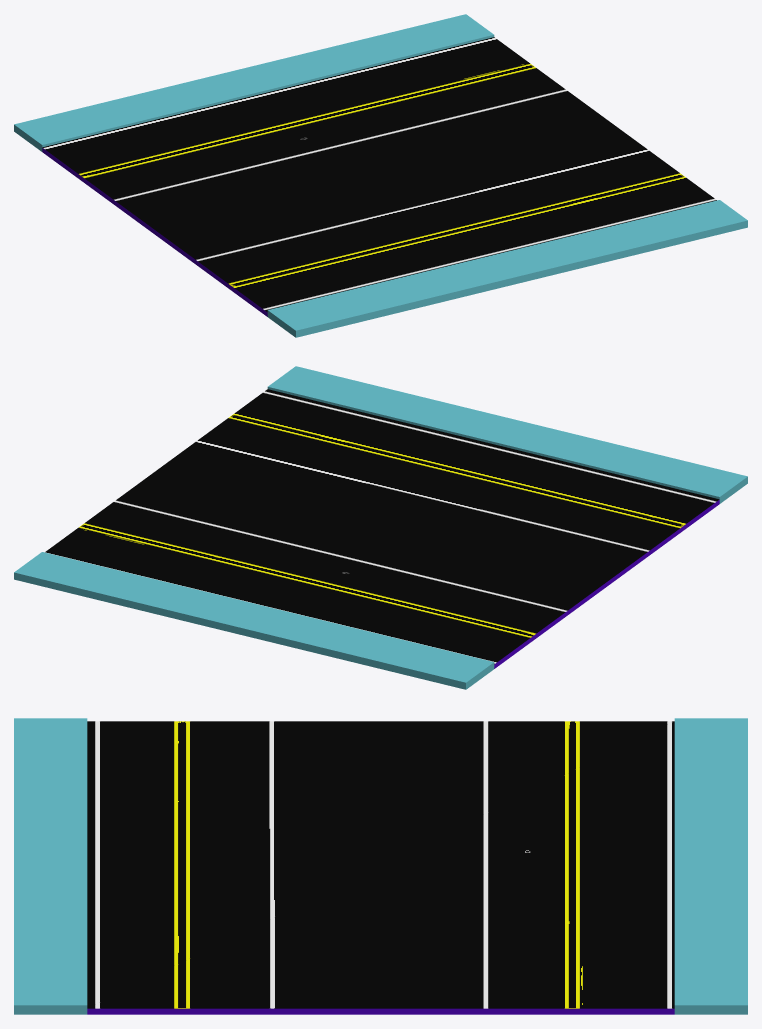
The model's file is straightStreet01.fbx.
3 views of the same model, one above another, from view 1: azimuth 30°, elevation 25°; view 2: azimuth 150°, elevation 25°; view 3: azimuth 270°, elevation 25° (orthographic). The views are drawn at different scales.
Parts seen in each view (by area): view 1: Cube; view 2: Cube; view 3: Cube.
Part boxes in pixels (x1,y1,x2,y2): Cube: [14, 14, 747, 337]; Cube: [14, 366, 747, 689]; Cube: [14, 718, 747, 1014].
Bounding box in the file's own units: 2000 × 30 × 2160.
